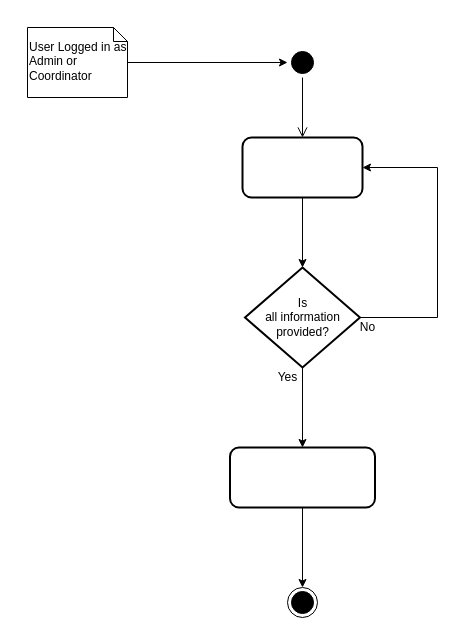
Some shapes in this 474 by 644 pixel diagram are drawn without their labels. Each missing label, with the centre of its shape:
"Input User Details" goes at point (302, 167).
"Successfully added to faculty" goes at point (302, 477).
